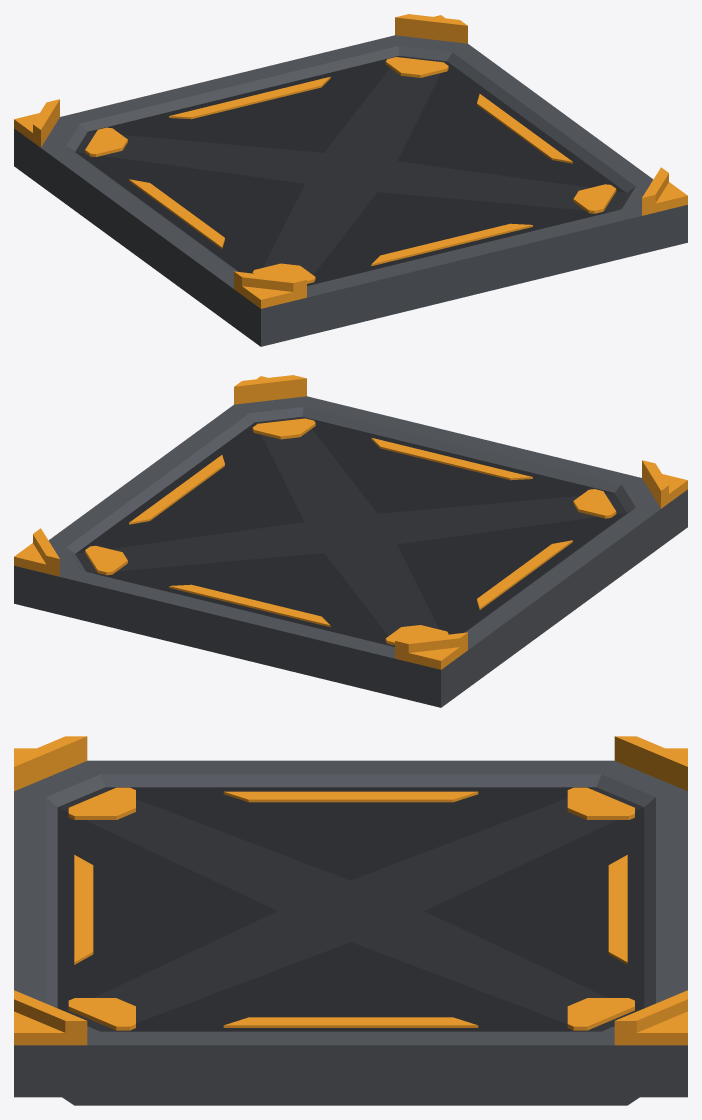
File: SM_X-shaped_platform.glb
3 renders of one model, top to bottom at view 1: azimuth 30°, elevation 25°; view 2: azimuth 150°, elevation 25°; view 3: azimuth 270°, elevation 25°, orthographic. The views are drawn at different scales.
Parts seen in each view (by area): view 1: SM_X-shaped_platform; view 2: SM_X-shaped_platform; view 3: SM_X-shaped_platform.
Part boxes in pixels (x1,y1,x2,y2): SM_X-shaped_platform: (14,14,687,346); SM_X-shaped_platform: (14,375,687,707); SM_X-shaped_platform: (14,736,687,1105).
Size of the model in its own units: 4 by 0.6349 by 4.
1 material, 1 textured.
